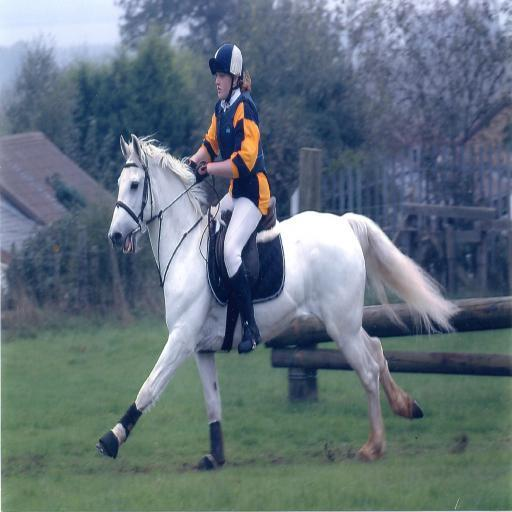horse: (98, 130, 464, 470)
